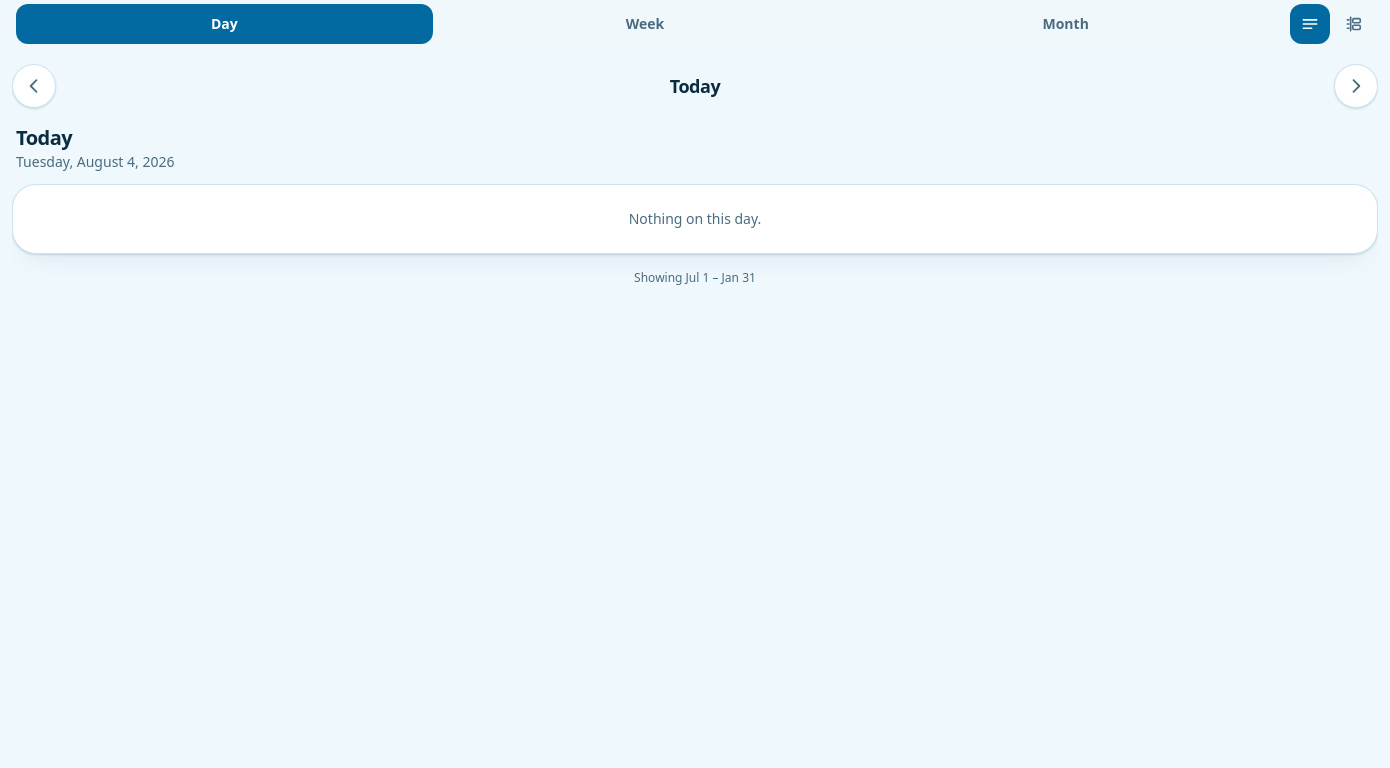
Test: the list / timeline toggle › keeps the choice when moving between Day and Week
Click the button named "Timeline view" at (1354, 24), box [1334,4,1374,44]
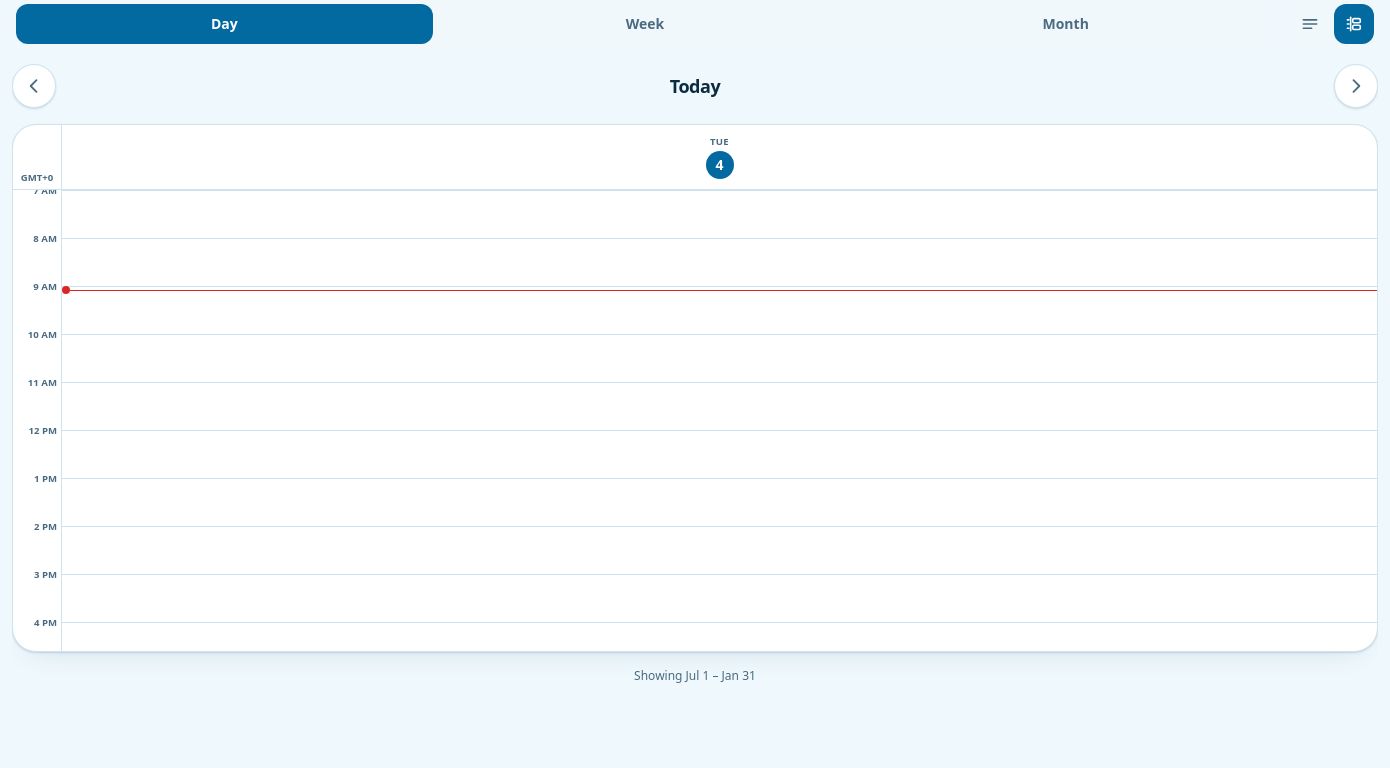
Expected: the element named "This day, by time" is shown
Click the tab "Week" at (645, 24), box [437,4,853,44]
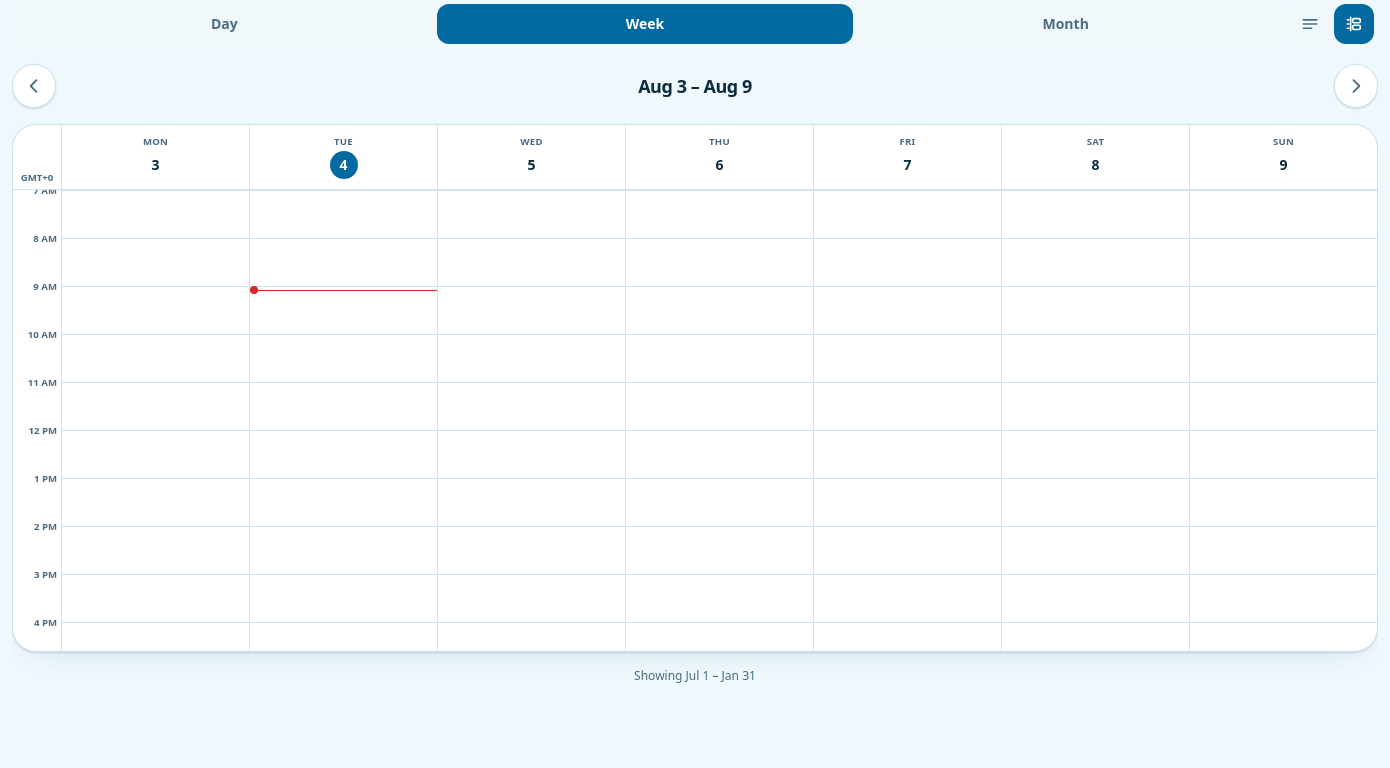
Expected: the element named "This week, by time" is shown
Click the tab "Day" at (224, 24), box [16,4,433,44]
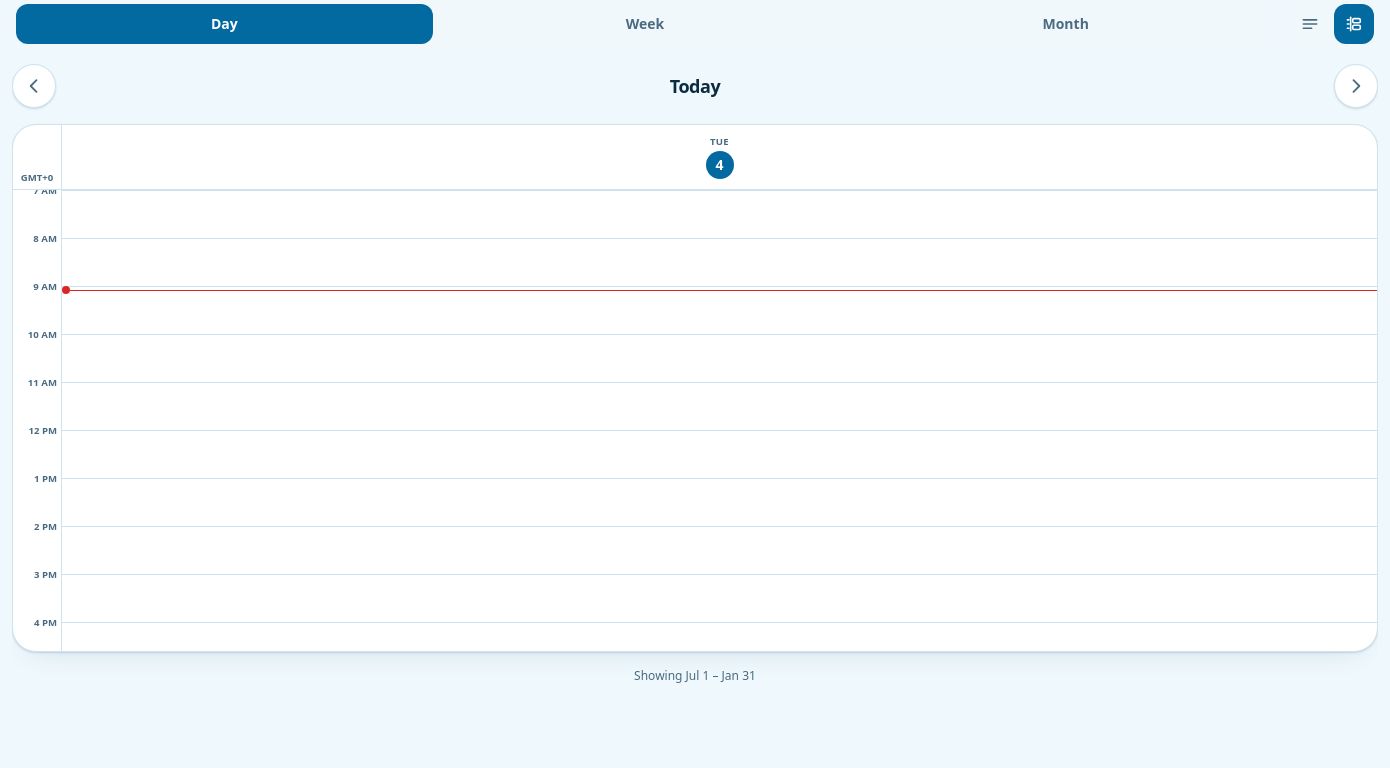
Expected: the element named "This day, by time" is shown
